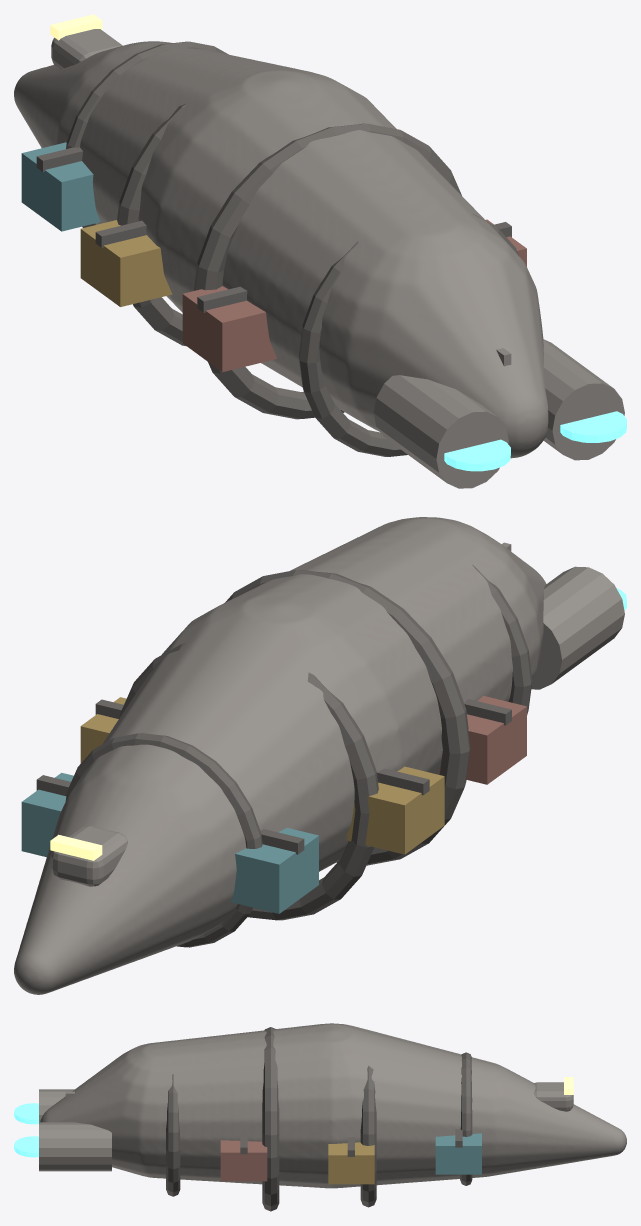
The model's file is freighter.glb.
The picture shows the model from 3 angles, top to bottom: view 1: azimuth 30°, elevation 25°; view 2: azimuth 150°, elevation 25°; view 3: azimuth 270°, elevation 25°; orthographic projection. The views are drawn at different scales.
Parts seen in each view (by area): view 1: hull, eng-1, rib-0.25, pod2-1, eng1, pod1-1, rib-0.65, pod0-1, rib0.15, rib0.55, bridge, eglow-1 (+5 smaller); view 2: hull, eng-1, rib-0.25, rib0.15, pod0-1, pod1-1, rib0.55, pod2-1, bridge, pod01, rib-0.65, pod11 (+4 smaller); view 3: hull, eng1, rib-0.25, pod21, pod11, pod01, rib0.15, rib-0.65, rib0.55, bridge, eng-1, eglow-1 (+1 smaller).
Part boxes in pixels (<box>): hull: <box>14,41,548,458</box>; eng-1: <box>373,375,508,488</box>; rib-0.25: <box>194,123,461,419</box>; pod2-1: <box>182,286,277,372</box>; eng1: <box>543,339,624,460</box>; pod1-1: <box>80,220,172,306</box>; rib-0.65: <box>298,213,519,456</box>; pod0-1: <box>21,142,100,231</box>; rib0.15: <box>117,103,186,346</box>; rib0.55: <box>66,41,228,227</box>; bridge: <box>51,29,122,68</box>; eglow-1: <box>444,439,510,471</box>; hull: <box>14,517,546,994</box>; eng-1: <box>531,566,624,689</box>; rib-0.25: <box>225,570,470,865</box>; rib0.15: <box>119,642,378,920</box>; pod0-1: <box>230,828,318,913</box>; pod1-1: <box>347,766,444,854</box>; rib0.55: <box>65,733,262,947</box>; pod2-1: <box>437,695,526,784</box>; bridge: <box>51,825,127,886</box>; pod01: <box>21,772,73,857</box>; rib-0.65: <box>357,537,532,714</box>; pod11: <box>80,697,126,763</box>; hull: <box>40,1023,626,1188</box>; eng1: <box>39,1122,111,1171</box>; rib-0.25: <box>262,1027,279,1211</box>; pod21: <box>220,1140,267,1181</box>; pod11: <box>328,1142,374,1184</box>; pod01: <box>435,1133,481,1174</box>; rib0.15: <box>360,1065,376,1207</box>; rib-0.65: <box>166,1074,180,1196</box>; rib0.55: <box>460,1052,472,1185</box>; bridge: <box>534,1082,573,1111</box>; eng-1: <box>39,1089,74,1122</box>; eglow-1: <box>14,1103,38,1124</box>.
Size of the model in its own units: 0.904 by 0.778 by 2.51.
